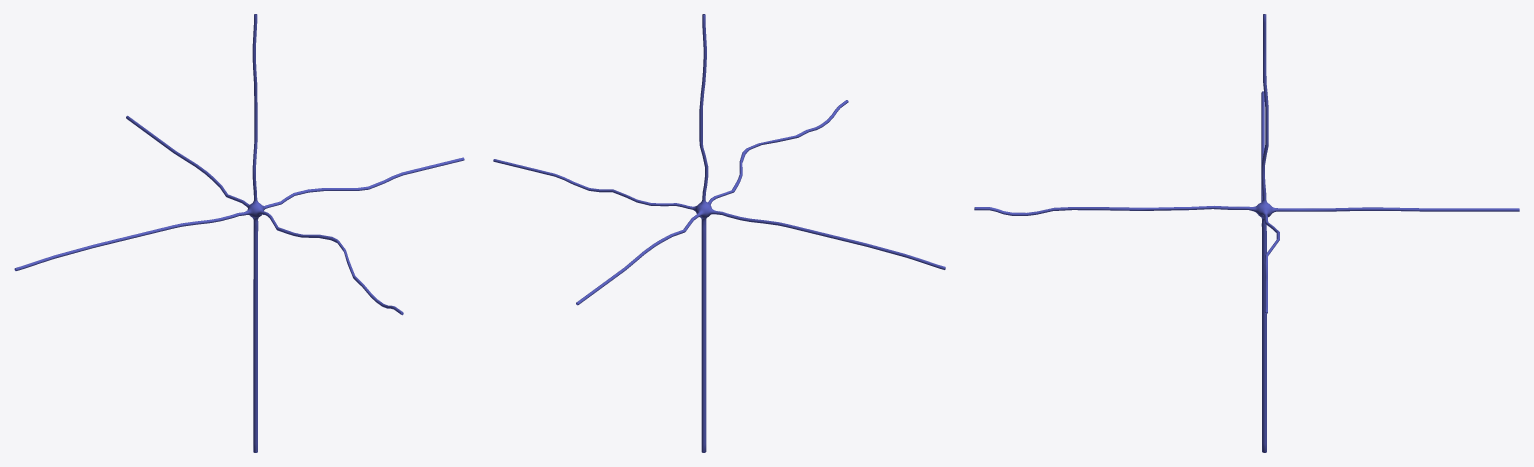
File: CZ_LongNeuron01.fbx
3 renders of one model, left to right at view 1: azimuth 30°, elevation 25°; view 2: azimuth 150°, elevation 25°; view 3: azimuth 270°, elevation 25°, orthographic.
Parts seen in each view (by area): view 1: CZ_LongNeuron01; view 2: CZ_LongNeuron01; view 3: CZ_LongNeuron01.
Boxes of the visible parts, <box> form: CZ_LongNeuron01: <box>14,14,464,452</box>; CZ_LongNeuron01: <box>493,14,945,452</box>; CZ_LongNeuron01: <box>974,14,1519,452</box>.
Size of the model in its own units: 13.58 by 12.62 by 14.25.
